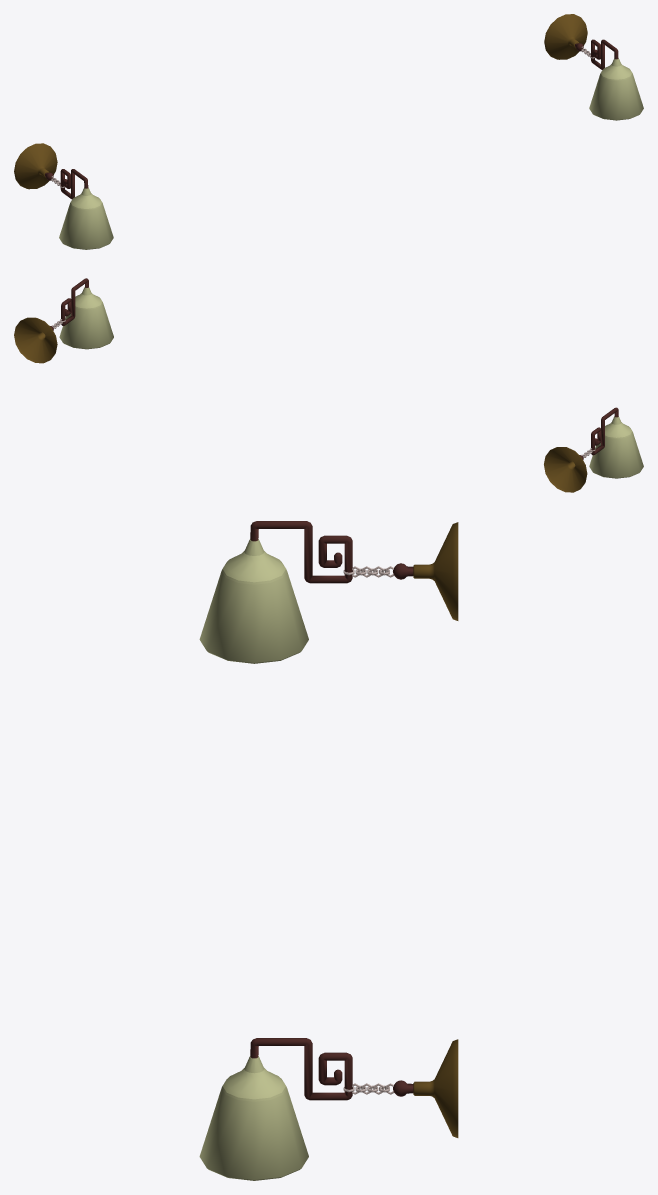
The model's file is Lightz.fbx.
3 views of the same model, one above another, from view 1: azimuth 30°, elevation 25°; view 2: azimuth 150°, elevation 25°; view 3: azimuth 270°, elevation 25° (orthographic). The views are drawn at different scales.
Visible parts, largest first — view 1: Wall_Lamp_Body.003, Wall_Lamp_Body.002; view 2: Wall_Lamp_Body.003, Wall_Lamp_Body.002; view 3: Wall_Lamp_Body.003, Wall_Lamp_Body.002.
Boxes of the visible parts, x1=… form: Wall_Lamp_Body.003: x1=544, y1=14, x2=643, y2=120; Wall_Lamp_Body.002: x1=14, y1=143, x2=113, y2=249; Wall_Lamp_Body.003: x1=14, y1=278, x2=113, y2=363; Wall_Lamp_Body.002: x1=544, y1=407, x2=643, y2=492; Wall_Lamp_Body.003: x1=199, y1=1038, x2=458, y2=1180; Wall_Lamp_Body.002: x1=199, y1=521, x2=458, y2=663.
Size of the model in its own units: 416 by 42.18 by 80.74.
